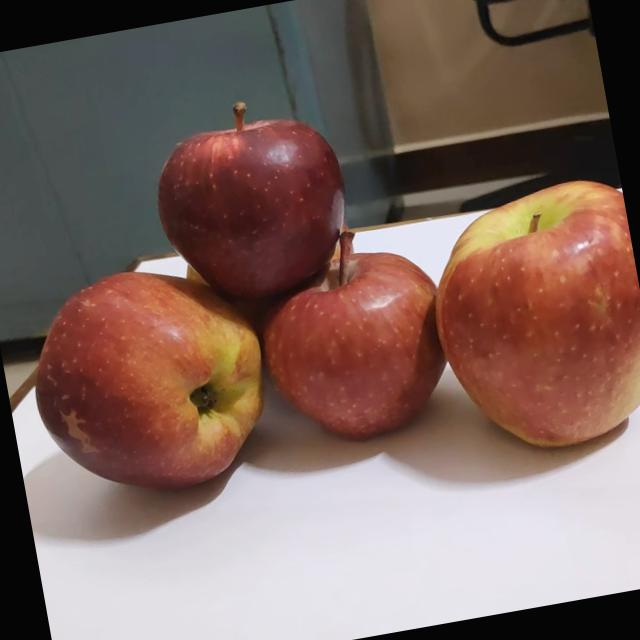apple: (18, 248, 290, 518), (418, 171, 640, 472), (138, 80, 368, 324), (245, 213, 468, 464), (176, 246, 231, 314)
